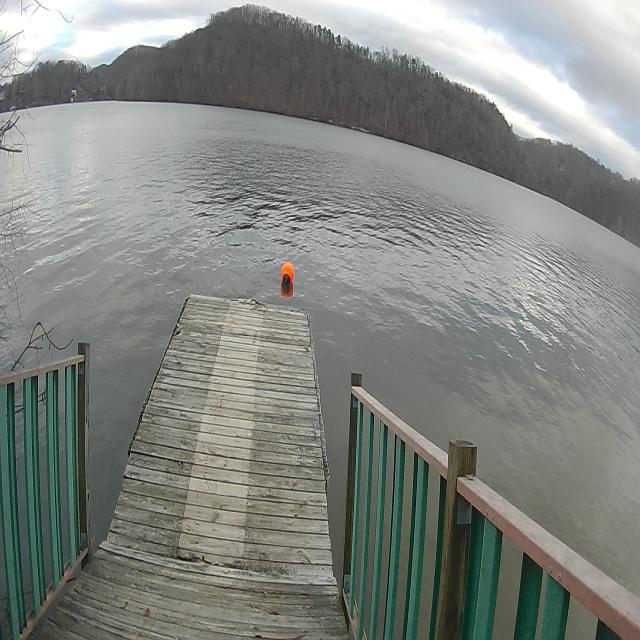Buoy: (279, 258, 297, 295)
